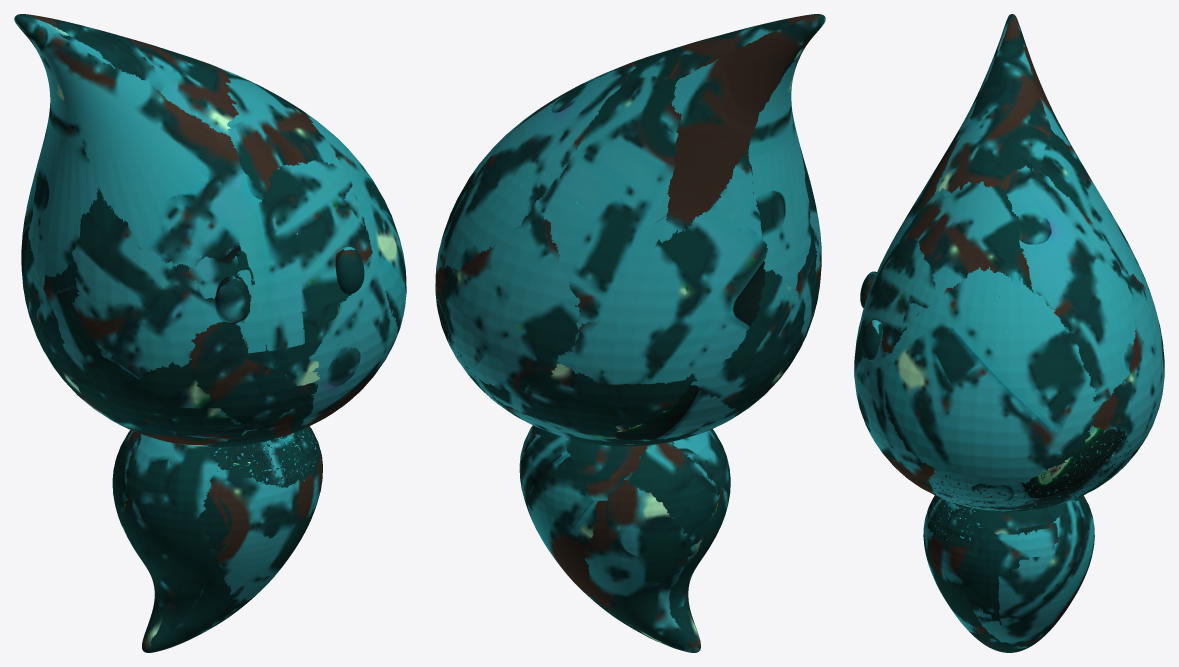
Rendered from _tree2.fbx.
The picture shows the model from 3 angles, left to right: view 1: azimuth 30°, elevation 25°; view 2: azimuth 150°, elevation 25°; view 3: azimuth 270°, elevation 25°; orthographic projection. The views are drawn at different scales.
Parts seen in each view (by area): view 1: texture_pbr_v128; view 2: texture_pbr_v128; view 3: texture_pbr_v128.
Boxes of the visible parts, x1,y1,x2,y2 form: texture_pbr_v128: [14, 14, 406, 652]; texture_pbr_v128: [435, 14, 825, 652]; texture_pbr_v128: [854, 14, 1164, 652].
Size of the model in its own units: 59.73 by 104 by 50.98.
